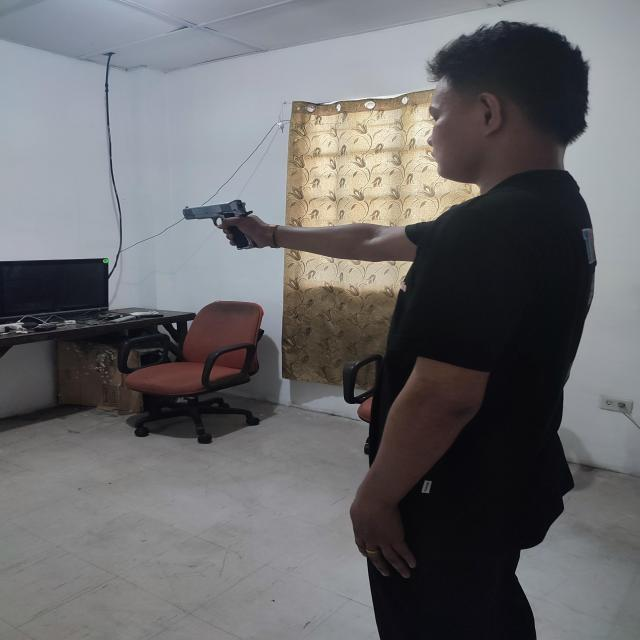pistol: (182, 200, 257, 250)
